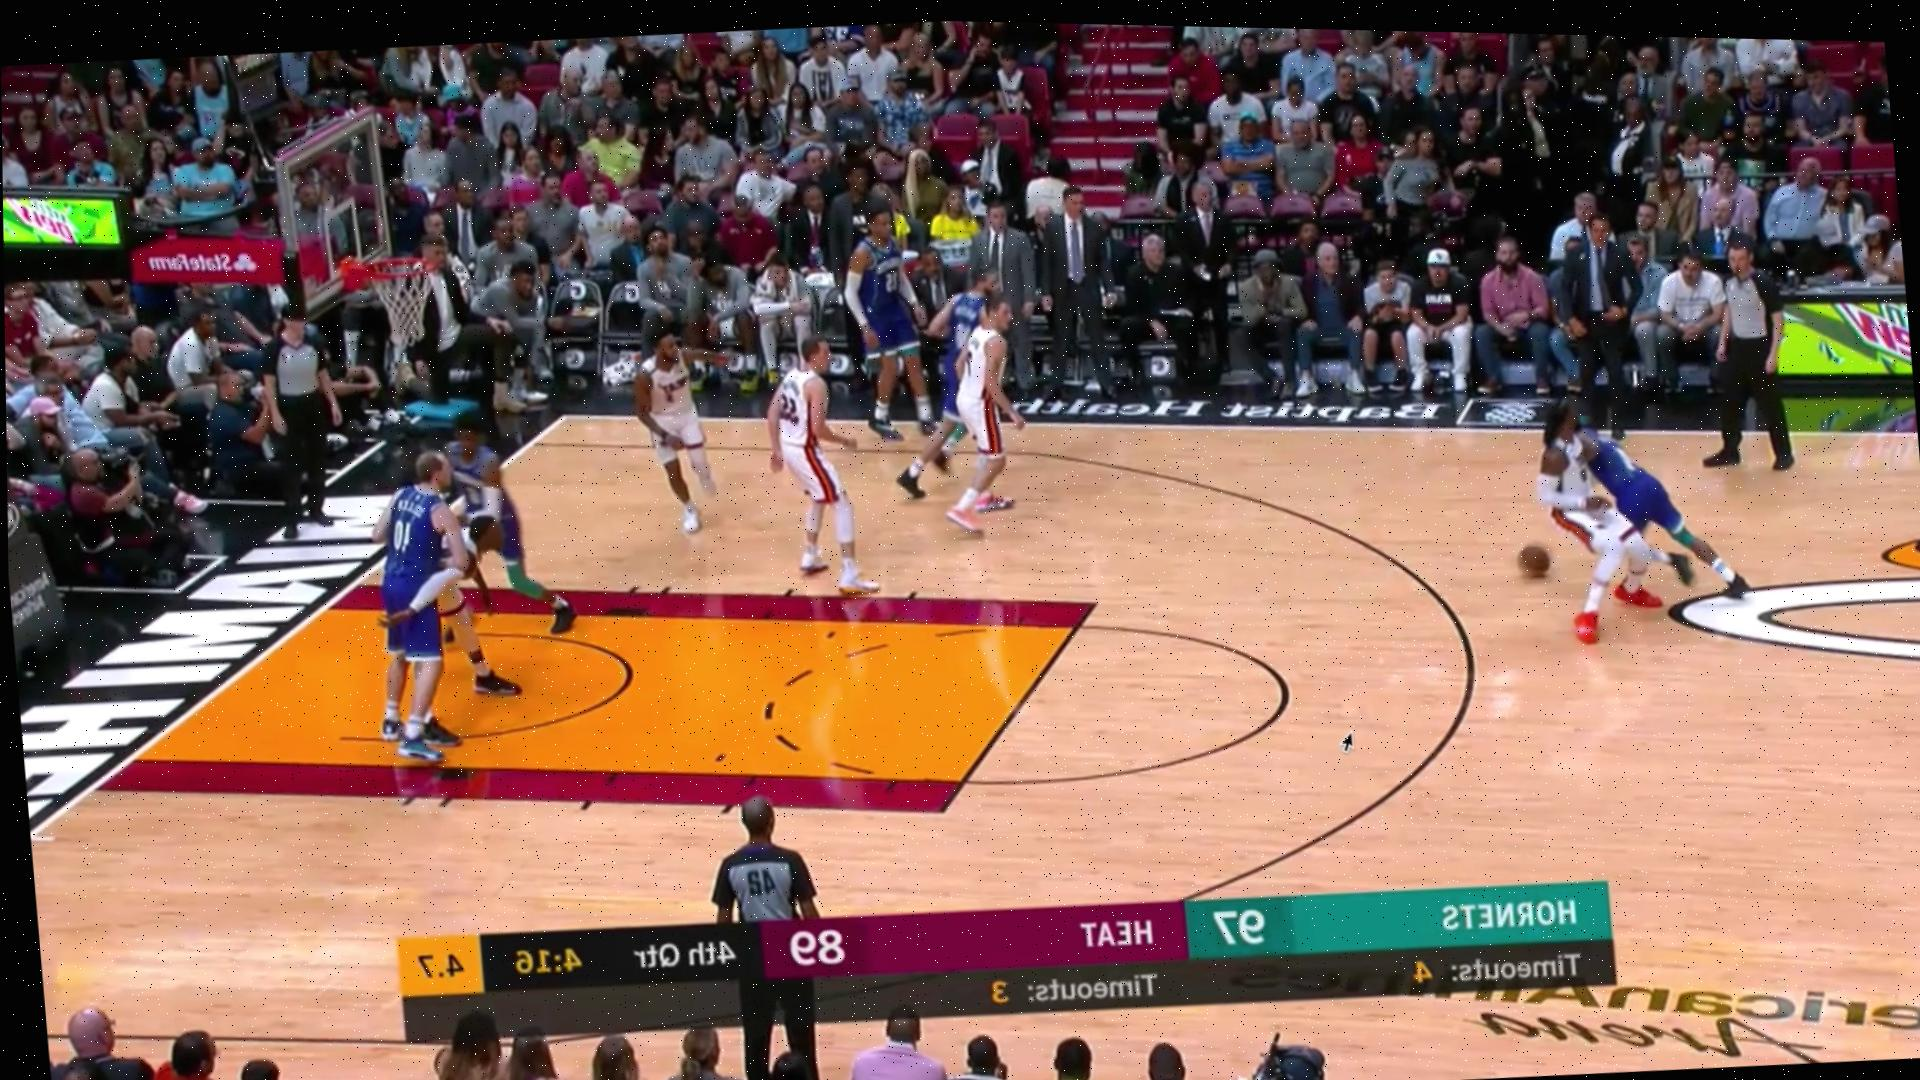no_foul: (356, 415, 527, 745)
